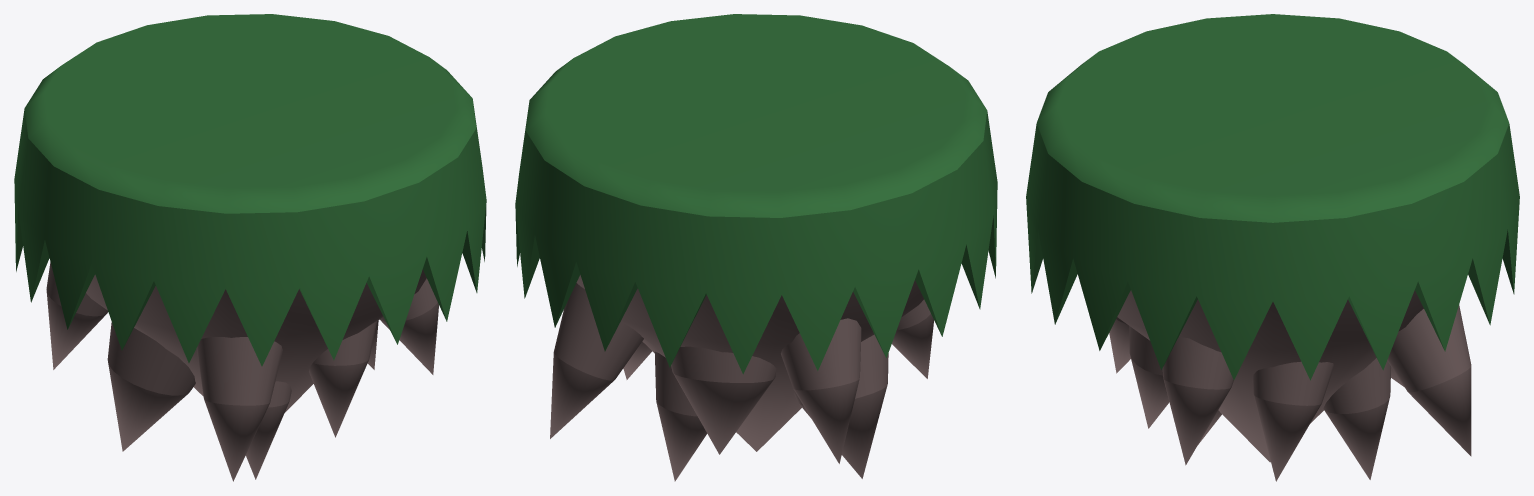
File: FloraGrassPlatform.fbx
3 renders of one model, left to right at view 1: azimuth 30°, elevation 25°; view 2: azimuth 150°, elevation 25°; view 3: azimuth 270°, elevation 25°, orthographic. The views are drawn at different scales.
Visible parts, largest first — view 1: pCylinder6; view 2: pCylinder6; view 3: pCylinder6.
Boxes of the visible parts, x1,y1,x2,y2 form: pCylinder6: [14, 14, 486, 481]; pCylinder6: [515, 14, 997, 481]; pCylinder6: [1026, 14, 1519, 481].
Size of the model in its own units: 533 by 428 by 533.
